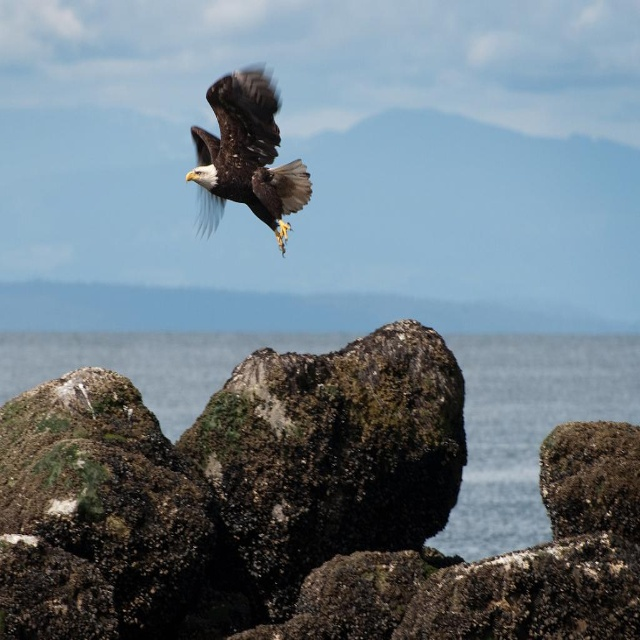Eagle: (184, 57, 315, 262)
